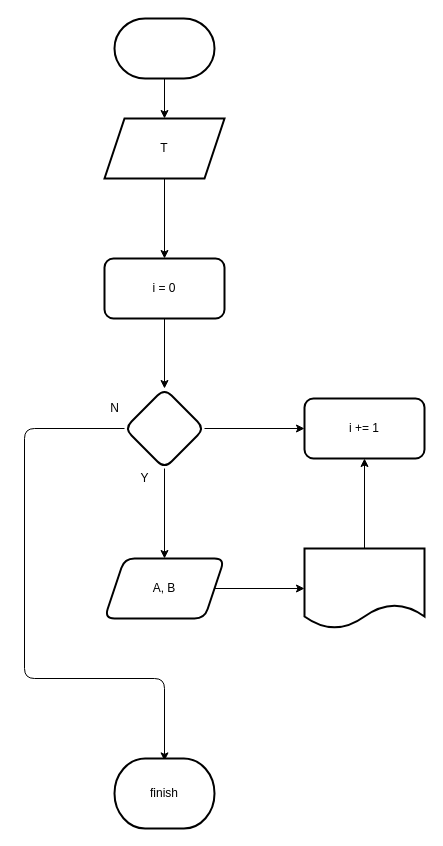
Some shapes in this 443 by 846 pixel diagram are drawn without their labels. Each missing label, with the box of its shape:
A + B: (303, 547, 425, 629)
i < N: (123, 387, 205, 469)
start: (113, 17, 215, 79)
